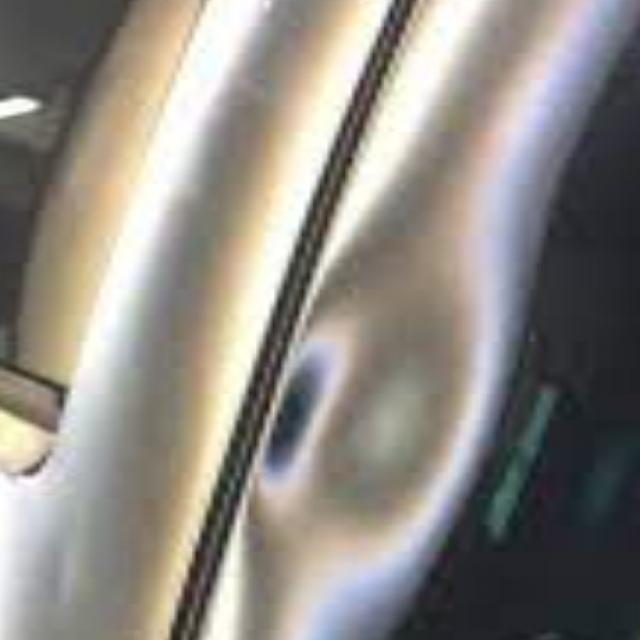dents: (252, 267, 549, 552)
